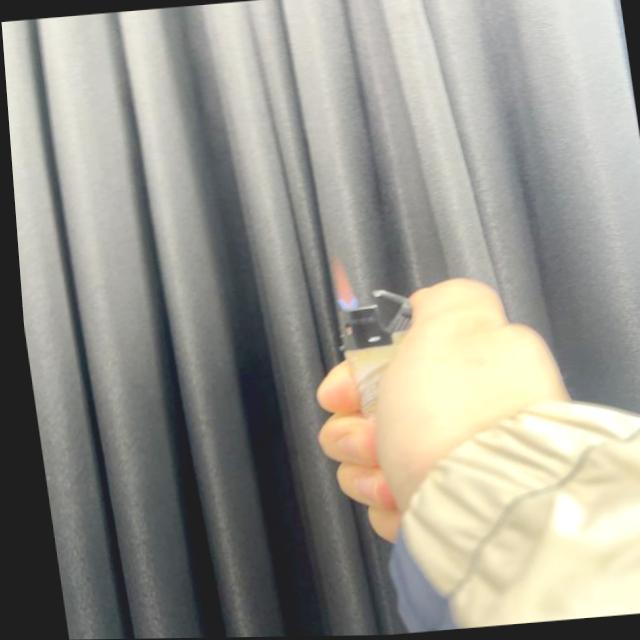Fire: (324, 256, 354, 309)
